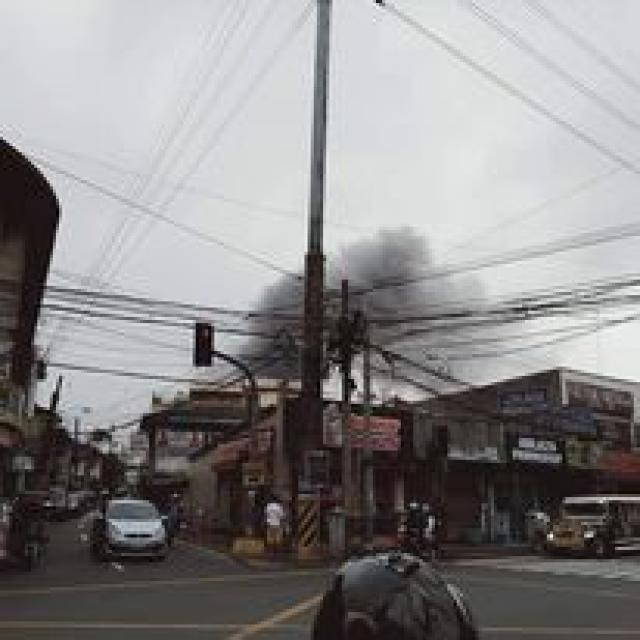Smoke: (234, 226, 456, 382)
